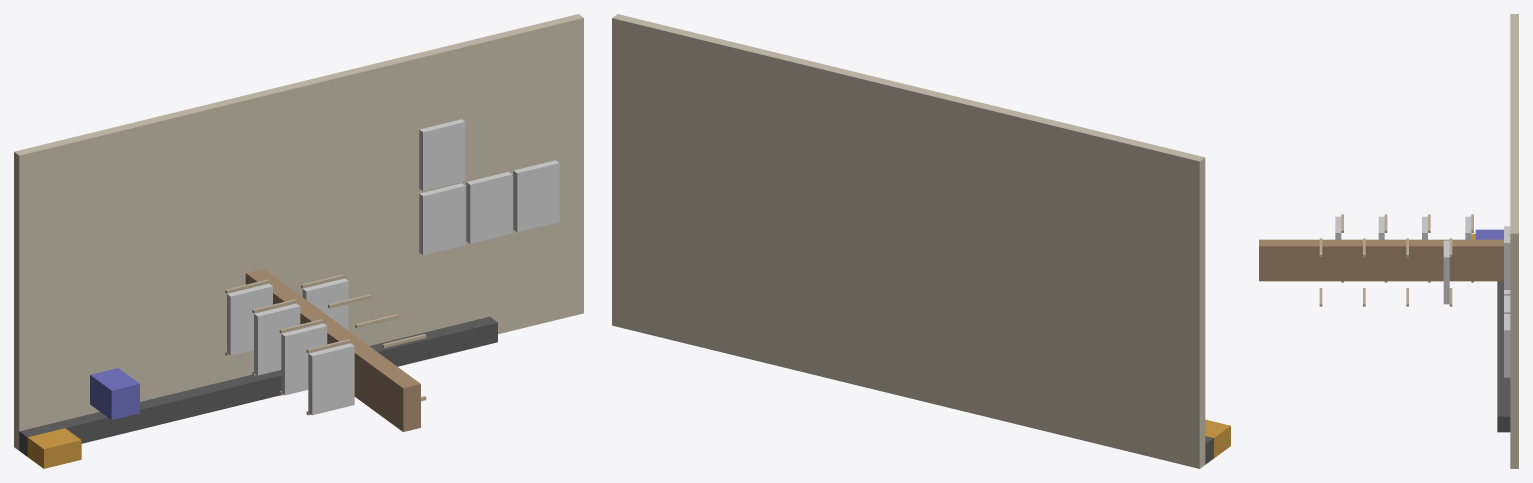
The model's file is bench.glb.
The picture shows the model from 3 angles, left to right: view 1: azimuth 30°, elevation 25°; view 2: azimuth 150°, elevation 25°; view 3: azimuth 270°, elevation 25°; orthographic projection. The views are drawn at different scales.
Parts seen in each view (by area): view 1: geometry_0, geometry_1, geometry_2, geometry_27, geometry_28, geometry_26, geometry_29, geometry_24, geometry_23, geometry_22, geometry_21, geometry_3 (+2 smaller); view 2: geometry_0, geometry_4; view 3: geometry_2, geometry_0, geometry_1, geometry_25, geometry_28, geometry_29, geometry_3.
Boxes of the visible parts, x1,y1,x2,y2 form: geometry_0: (14,14,583,450); geometry_1: (19,316,497,456); geometry_2: (245,268,420,431); geometry_27: (466,171,512,243); geometry_28: (513,160,559,232); geometry_26: (419,183,465,255); geometry_29: (419,119,465,191); geometry_24: (308,343,354,415); geometry_23: (281,323,327,395); geometry_22: (254,303,300,375); geometry_21: (227,283,272,355); geometry_3: (90,368,139,419); geometry_0: (612,14,1205,468); geometry_4: (1205,419,1230,458); geometry_2: (1259,239,1503,281); geometry_0: (1510,14,1518,468); geometry_1: (1497,281,1510,432); geometry_25: (1443,240,1449,304); geometry_28: (1504,314,1510,377); geometry_29: (1504,226,1510,289); geometry_3: (1475,229,1503,239).
Size of the model in its own units: 1200 by 600 by 600.
